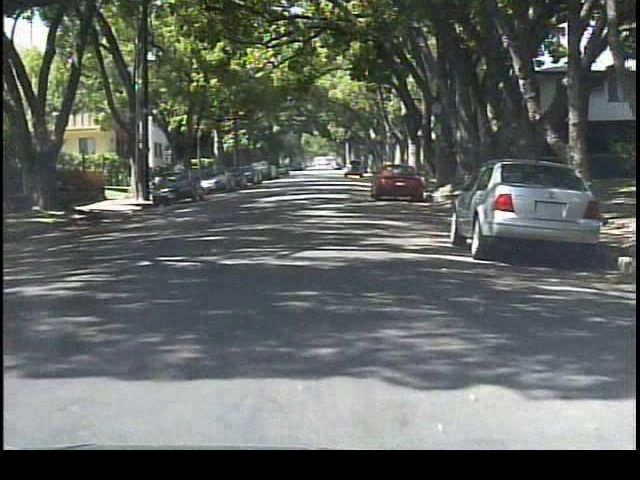person: (170, 160, 189, 195)
